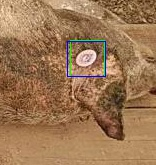text: (70, 40, 104, 76)
